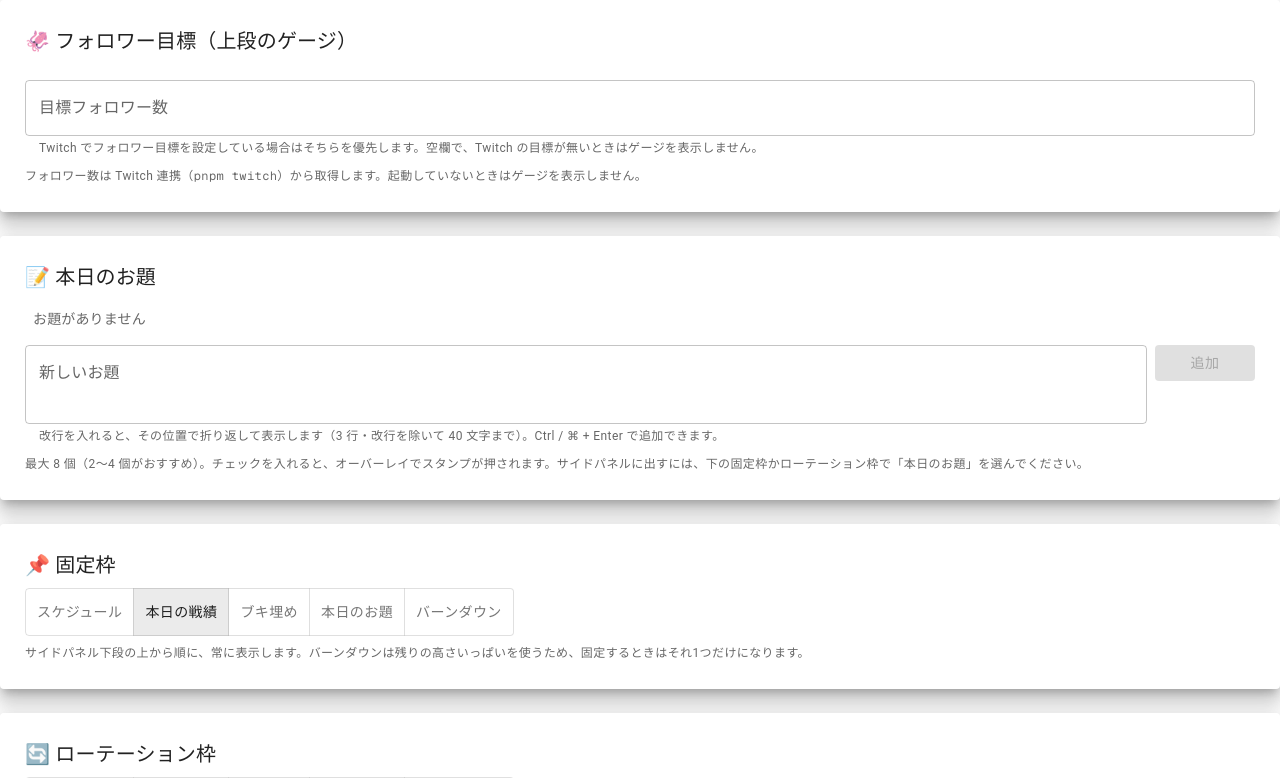
it: SidePanelSettingsPanel › reloads the saved settings when saving fails
This screenshot has width=1280, height=778.
Check: the heading "📌 固定枠" is shown, box [25,553,116,577]
Click the button "スケジュール" below "📌 固定枠": (80, 612) [25,588,134,636]
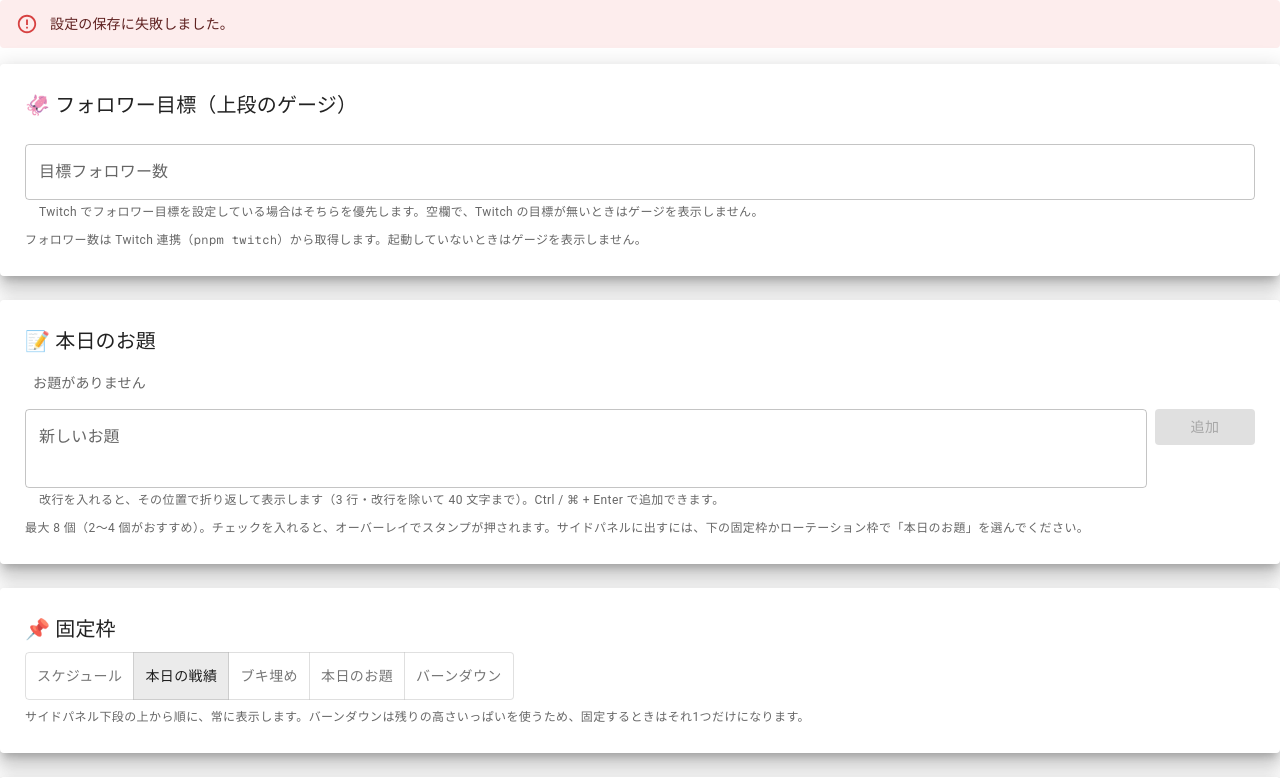
Check: the text "設定の保存に失敗しました。" is shown, box [50,16,234,32]
